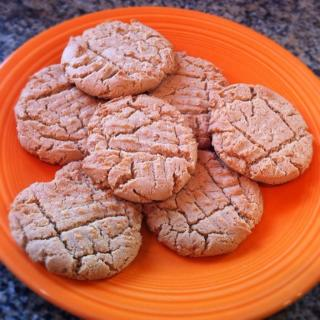Cookie: (12, 20, 314, 283), (62, 16, 174, 102)
